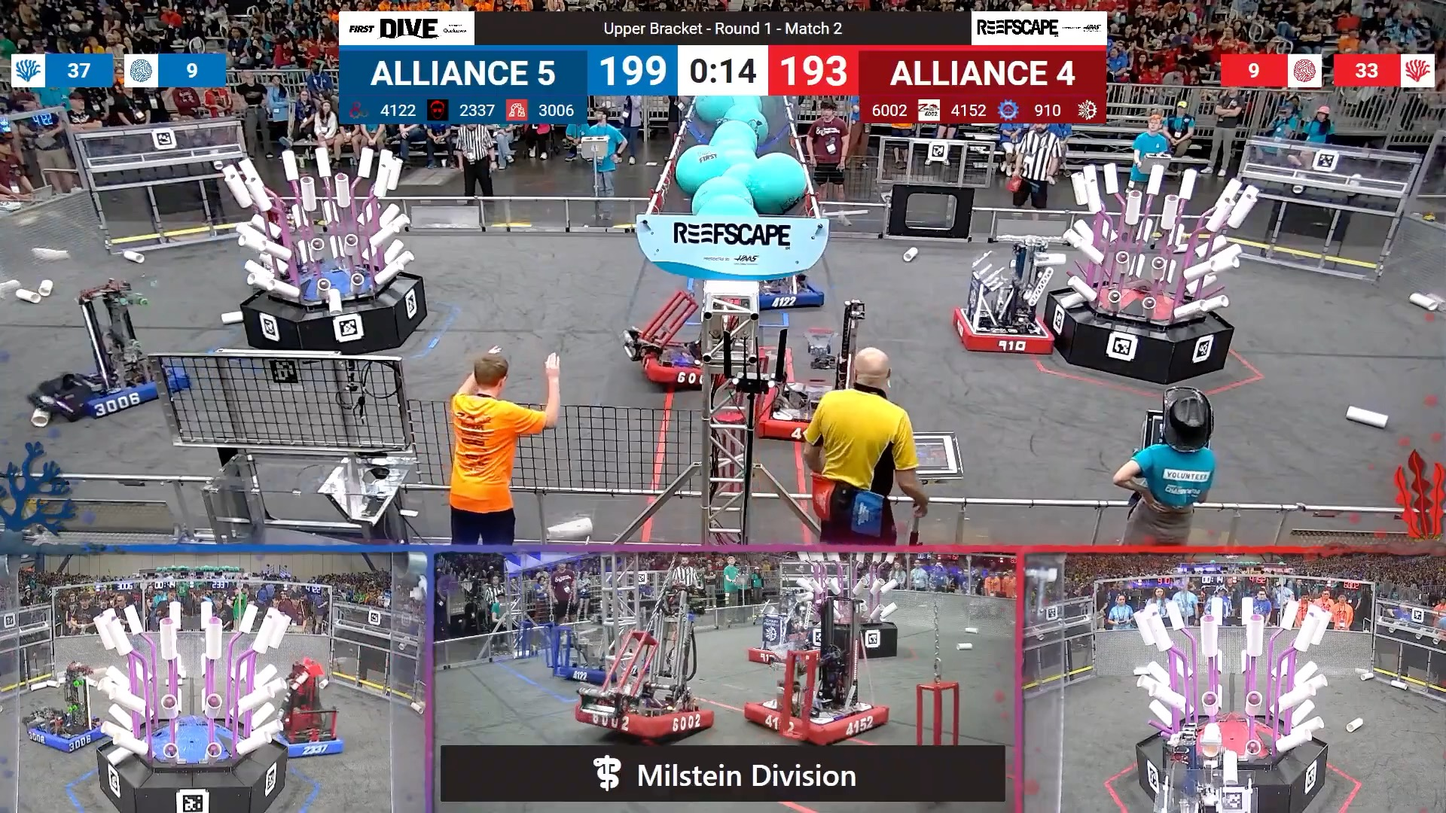bumpers: (38, 359, 185, 422), (568, 693, 715, 740), (947, 302, 1064, 361), (744, 697, 886, 745), (632, 346, 723, 394), (21, 714, 115, 756), (746, 393, 822, 443), (267, 723, 348, 760), (750, 277, 828, 312), (548, 662, 623, 684)
